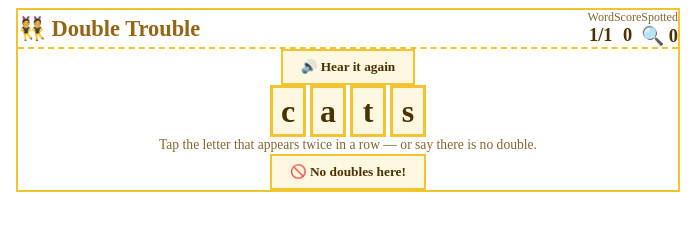
Test: Double Trouble › rewards saying there is no double when there is none
Click the button "🚫 No doubles here!".
click(348, 172)  # box [270,154,426,190]
Wait 2000 ms
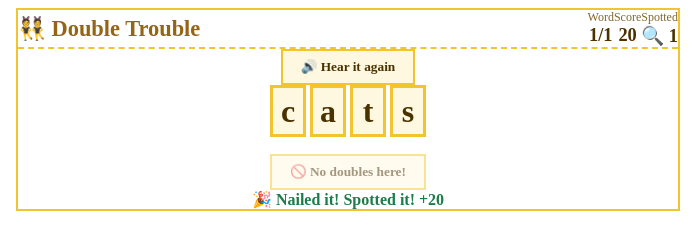
Expected: the text "🎉 Nailed it! Spotted it! +20" is shown, [252,191,444,208]
